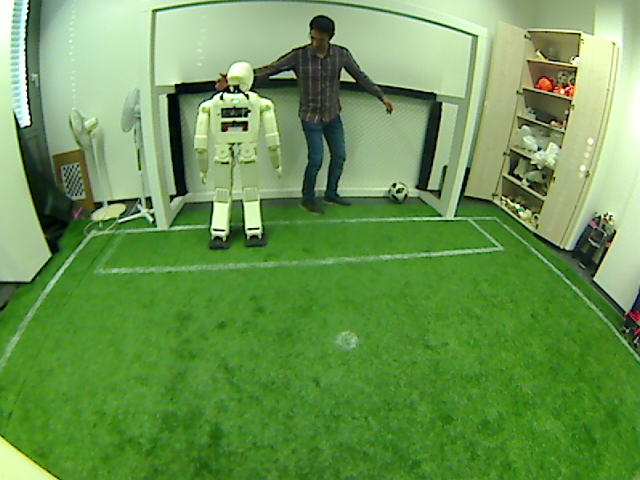ball: (386, 177, 413, 204)
goalpost: (439, 179, 458, 218), (152, 195, 169, 229)
robot: (201, 172, 267, 247)
